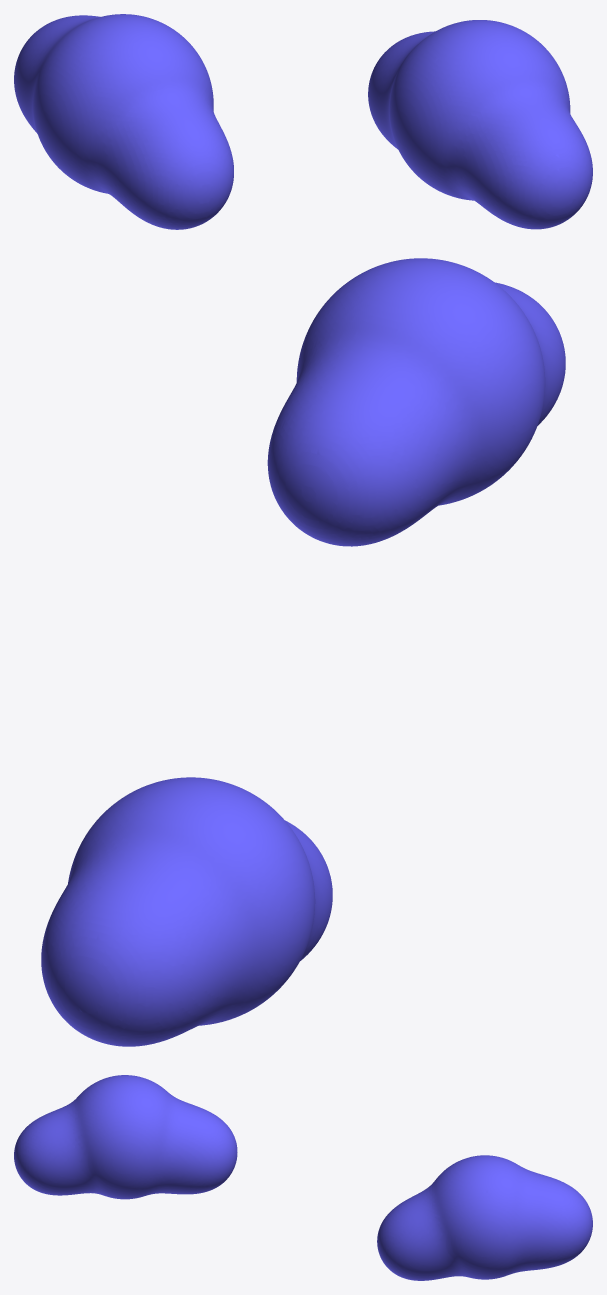
The model's file is blueCloud.fbx.
3 views of the same model, one above another, from view 1: azimuth 30°, elevation 25°; view 2: azimuth 150°, elevation 25°; view 3: azimuth 270°, elevation 25° (orthographic). The views are drawn at different scales.
Visible parts, largest first — view 1: Mball; view 2: Mball; view 3: Mball.
Boxes of the visible parts, bbox=[...] form: Mball: bbox=[14, 14, 592, 229]; Mball: bbox=[41, 258, 565, 1046]; Mball: bbox=[14, 1075, 592, 1280].
Size of the model in its own units: 418 by 524 by 1214.
